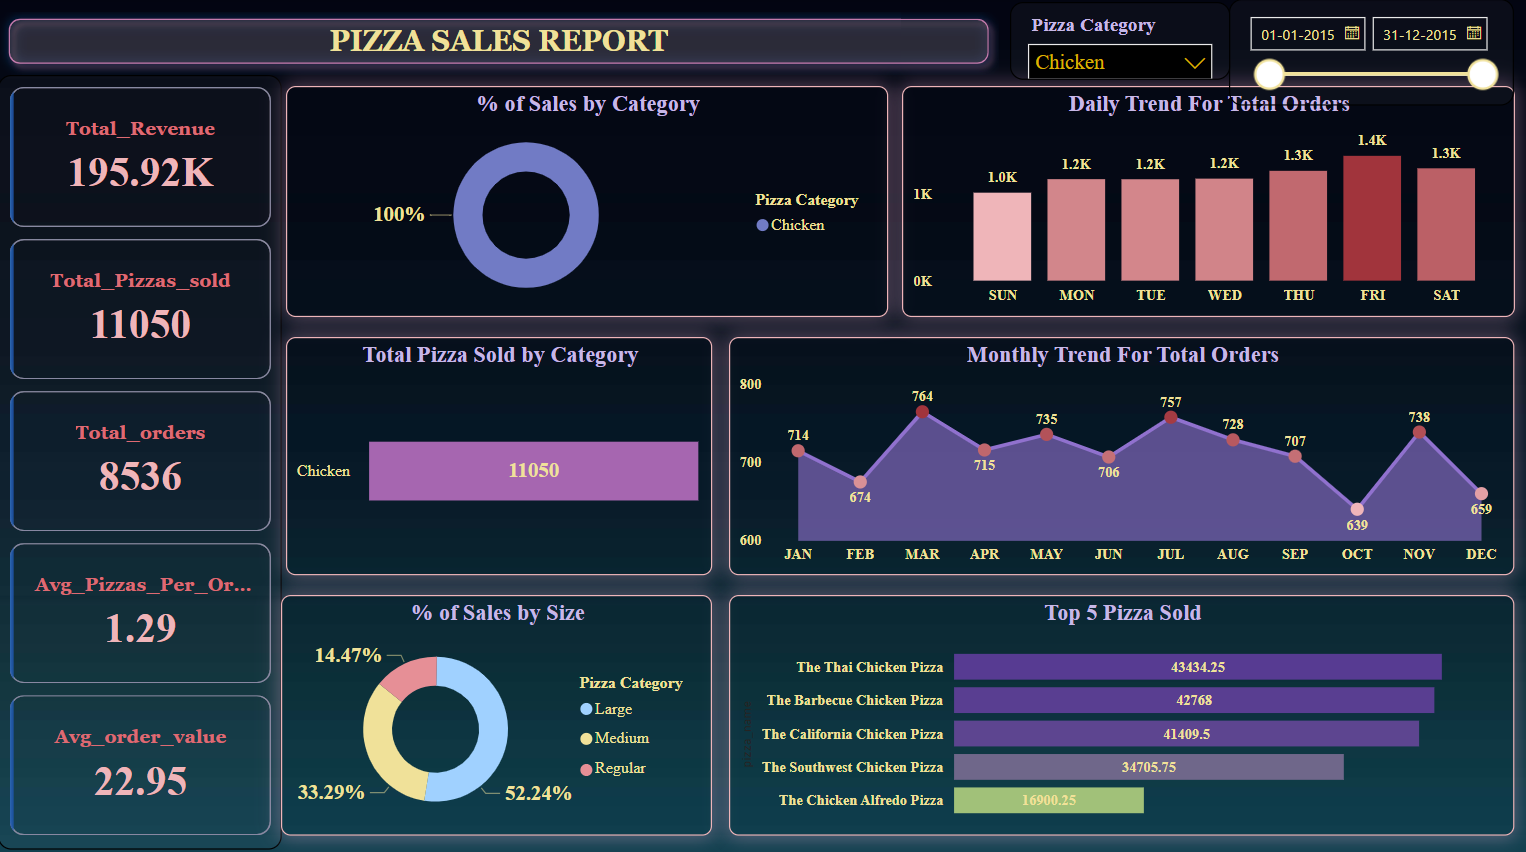

The dashboard page shown, as its layout file describes it:
{"tool":"powerbi","page":{"name":"Pizza_Sales","canvas":[1280,720],"ordinal":0},"visuals":[{"type":"cardVisual","fields":{"Data":["pizza_sales.Total_Revenue","pizza_sales.Total_Pizzas_sold","pizza_sales.Total_orders","pizza_sales.Avg_Pizzas_Per_Orders","pizza_sales.Avg_order_value"]},"box":[0,63.2,236.6,646.7],"z":0},{"type":"shape","box":[0,7.7,836.4,55.6],"z":1000},{"type":"clusteredColumnChart","title":"Daily Trend For Total Orders","fields":{"Category":["pizza_sales.Order Day"],"Y":["pizza_sales.Total_orders"]},"box":[755,72.8,511.6,192.6],"z":2000},{"type":"areaChart","title":"Monthly Trend For Total Orders","fields":{"Category":["pizza_sales.Order Month"],"Y":["pizza_sales.Total_orders"]},"box":[610.3,282.6,656.3,199.3],"z":3000},{"type":"donutChart","title":"% of Sales by Category","fields":{"Y":["pizza_sales.Total_Revenue"],"Category":["pizza_sales.pizza_category"]},"box":[240.5,72.8,503,192.6],"z":4000},{"type":"donutChart","title":"% of Sales by Size","fields":{"Y":["pizza_sales.Total_Revenue"],"Category":["pizza_sales.pizza_size"]},"box":[236.6,498.2,360.2,201.2],"z":5000},{"type":"funnel","title":"Total Pizza Sold by Category","fields":{"Category":["pizza_sales.pizza_category"],"Y":["pizza_sales.Total_Pizzas_sold"]},"box":[240.5,282.6,356.4,199.3],"z":6000},{"type":"clusteredBarChart","title":"Top 5 Pizza Sold","fields":{"Y":["pizza_sales.Total_Revenue"],"Category":["pizza_sales.pizza_name"]},"box":[610.3,498.2,656.3,201.2],"z":7000},{"type":"slicer","fields":{"Values":["pizza_sales.pizza_category"]},"box":[845,2.9,184,65.1],"z":8000},{"type":"slicer","fields":{"Values":["pizza_sales.order_date"]},"box":[1028.6,0,237.6,88.7],"z":9000}]}

Visuals, with their boxes in screenshot pixels (x1, y1, x2, y2), scaled from the page's 1280x720 canvas onto the 1526x852 screenshot:
cardVisual - pizza_sales.Total_Revenue x pizza_sales.Total_Pizzas_sold: (left=0, top=75, right=282, bottom=840)
shape: (left=0, top=9, right=997, bottom=75)
"Daily Trend For Total Orders" clusteredColumnChart: (left=900, top=86, right=1510, bottom=314)
"Monthly Trend For Total Orders" areaChart: (left=728, top=334, right=1510, bottom=570)
"% of Sales by Category" donutChart: (left=287, top=86, right=886, bottom=314)
"% of Sales by Size" donutChart: (left=282, top=590, right=711, bottom=828)
"Total Pizza Sold by Category" funnel: (left=287, top=334, right=712, bottom=570)
"Top 5 Pizza Sold" clusteredBarChart: (left=728, top=590, right=1510, bottom=828)
slicer - pizza_sales.pizza_category: (left=1007, top=3, right=1227, bottom=80)
slicer - pizza_sales.order_date: (left=1226, top=0, right=1510, bottom=105)
